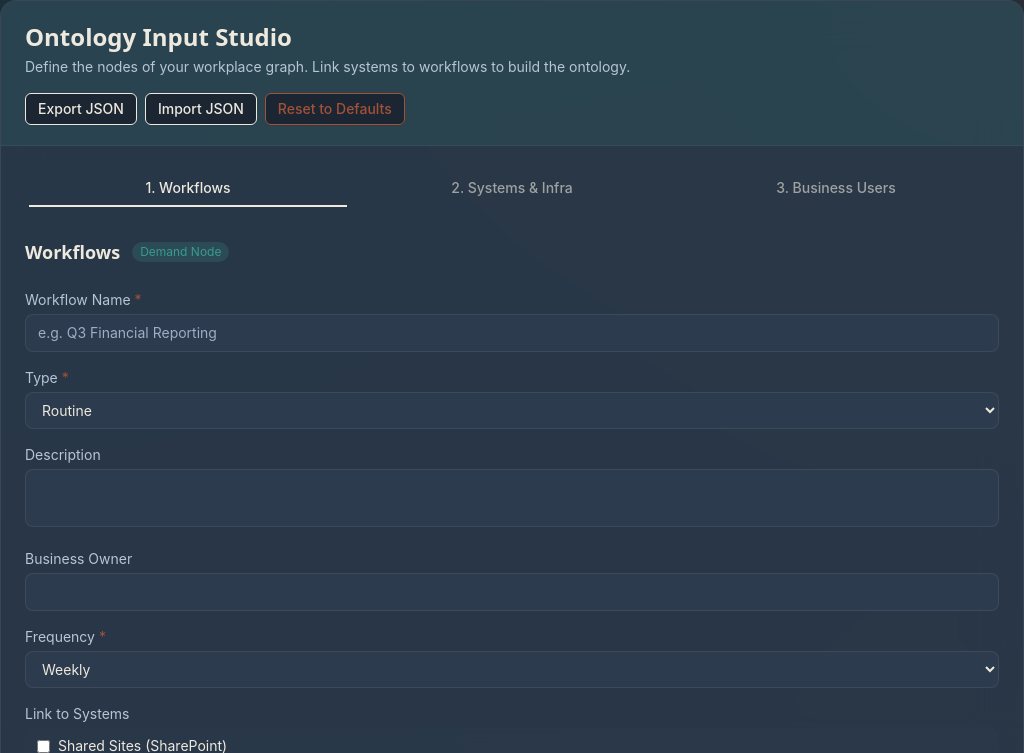
Test: InputStudio integration › adds a workflow and shows it in the node list
The width and height of the screenshot is (1024, 753).
Type "Q3 Reporting" into the field labelled "Workflow Name *" at point(512, 333), box [25, 314, 999, 352]
(page scrolled)
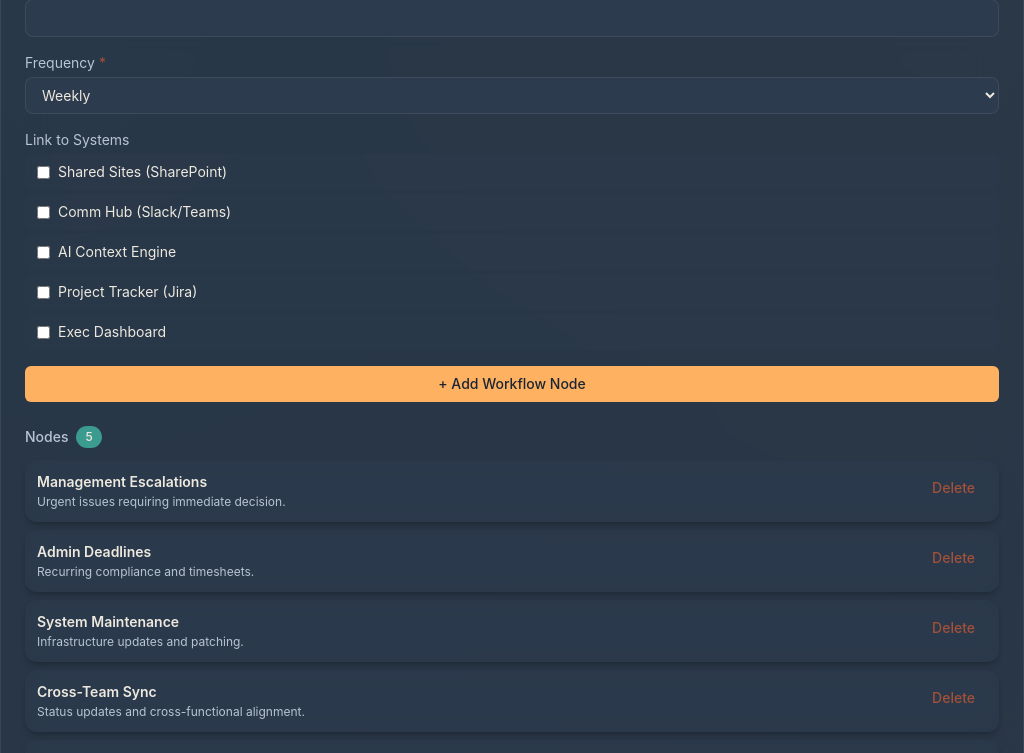
Click the button "+ Add Workflow Node" at point(512, 384), box [25, 366, 999, 402]
(page scrolled)
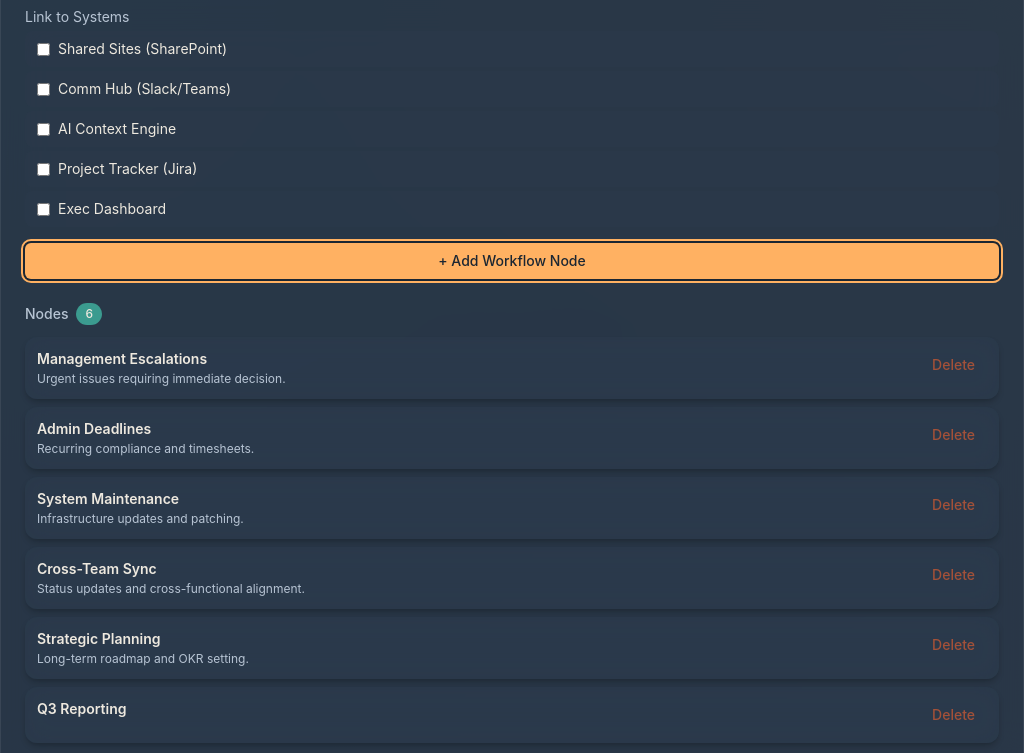
Result: the text "Q3 Reporting" is shown at [37, 699, 126, 719]
